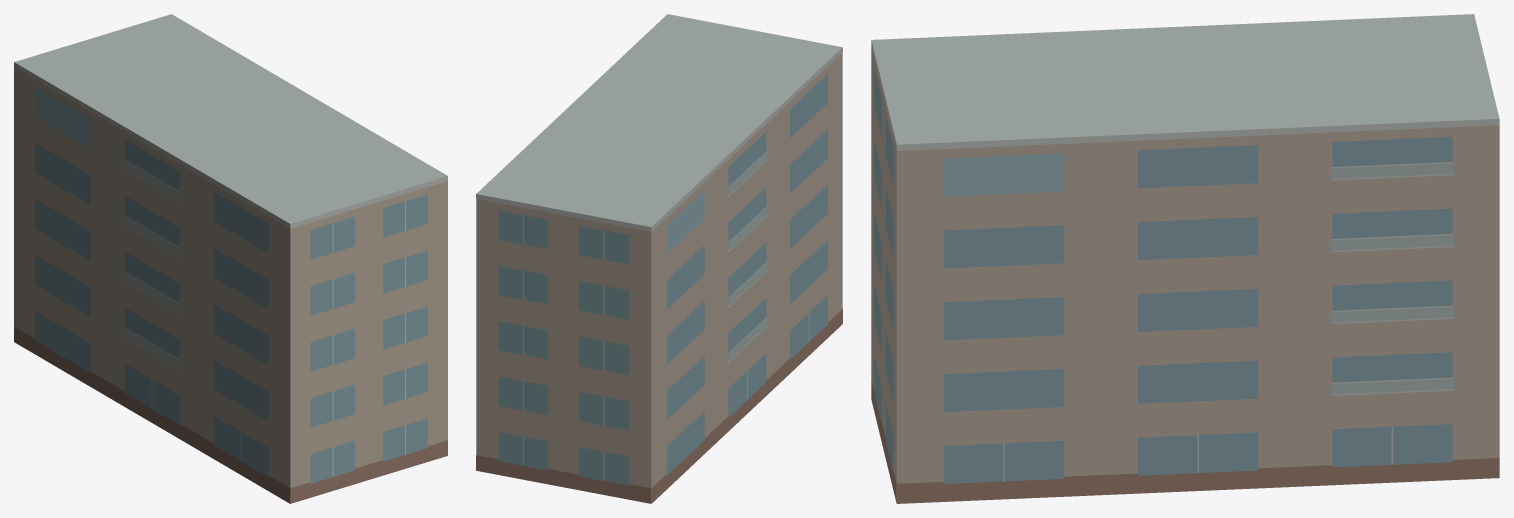
File: survey-upis-32625752.glb
The picture shows the model from 3 angles, left to right: view 1: azimuth 30°, elevation 25°; view 2: azimuth 150°, elevation 25°; view 3: azimuth 270°, elevation 25°; orthographic projection. The views are drawn at different scales.
Visible parts, largest first — view 1: survey-upis-32625752.tmp; view 2: survey-upis-32625752.tmp; view 3: survey-upis-32625752.tmp.
Part boxes in pixels (bbox=[...]): survey-upis-32625752.tmp: bbox=[14, 14, 447, 503]; survey-upis-32625752.tmp: bbox=[476, 14, 842, 503]; survey-upis-32625752.tmp: bbox=[871, 14, 1499, 503].
Bounding box in the file's own units: 10.74 × 13.75 × 21.81.
